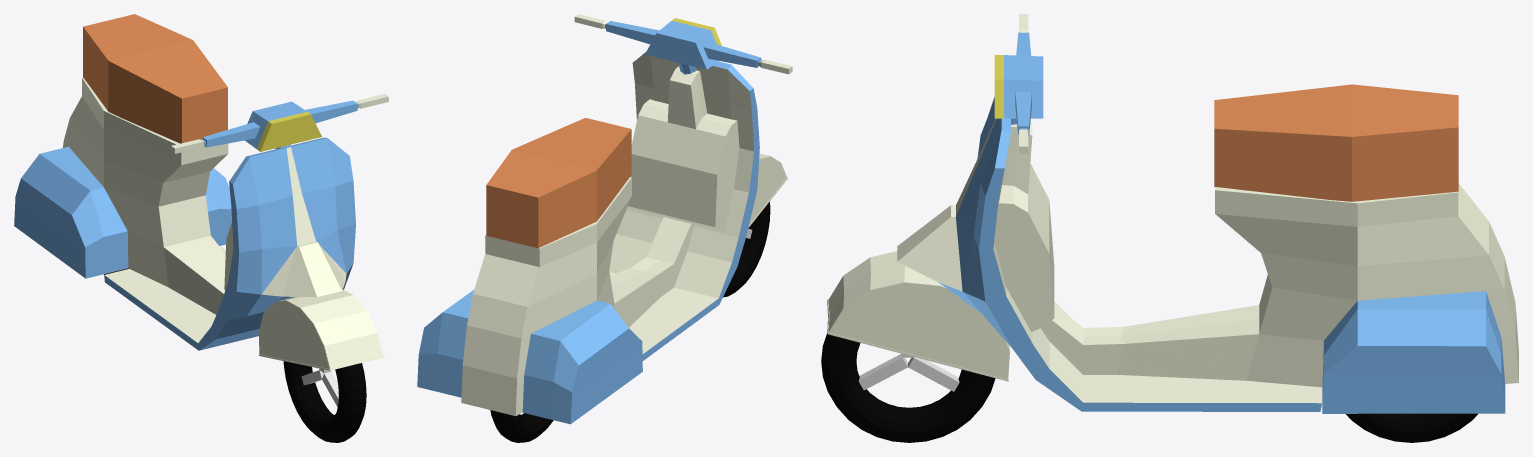
File: bike.fbx
3 views of the same model, side by side, from view 1: azimuth 30°, elevation 25°; view 2: azimuth 150°, elevation 25°; view 3: azimuth 270°, elevation 25° (orthographic). The views are drawn at different scales.
Parts seen in each view (by area): view 1: MotoBody, MotoHead, WheelFront; view 2: MotoBody, MotoHead, WheelFront, WheelBack; view 3: MotoBody, MotoHead, WheelFront, WheelBack.
Boxes of the visible parts, left/top/right/bottom form: MotoBody: left=14, top=14, right=355, bottom=350; MotoHead: left=171, top=94, right=388, bottom=370; WheelFront: left=283, top=361, right=366, bottom=442; MotoBody: left=417, top=51, right=759, bottom=424; MotoHead: left=574, top=14, right=792, bottom=227; WheelFront: left=723, top=201, right=770, bottom=297; WheelBack: left=490, top=410, right=553, bottom=442; MotoBody: left=897, top=84, right=1518, bottom=413; MotoHead: left=827, top=14, right=1043, bottom=381; WheelFront: left=821, top=333, right=995, bottom=442; WheelBack: left=1346, top=413, right=1477, bottom=442.
Bounding box in the file's own units: 57.84 × 76.02 × 128.
